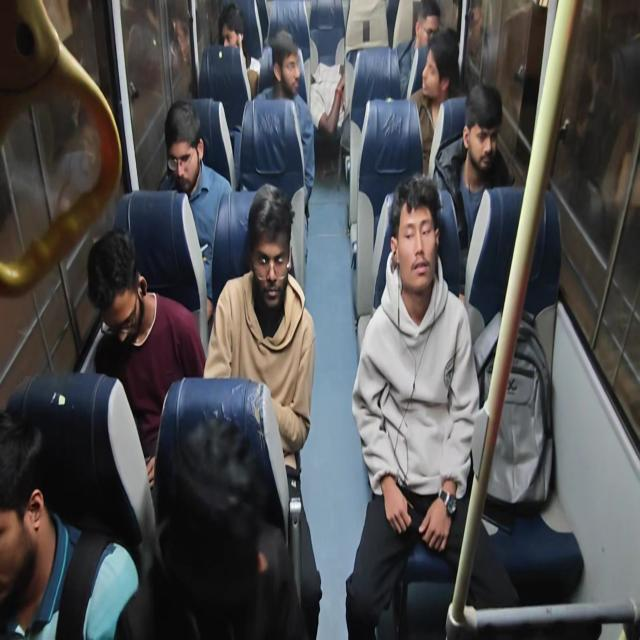person: (154, 396, 265, 634), (0, 388, 45, 609), (82, 228, 152, 356), (386, 174, 446, 304), (246, 183, 300, 317), (458, 71, 511, 184), (164, 93, 209, 197), (421, 33, 457, 113), (266, 26, 305, 98), (215, 1, 251, 58), (408, 0, 444, 43)
